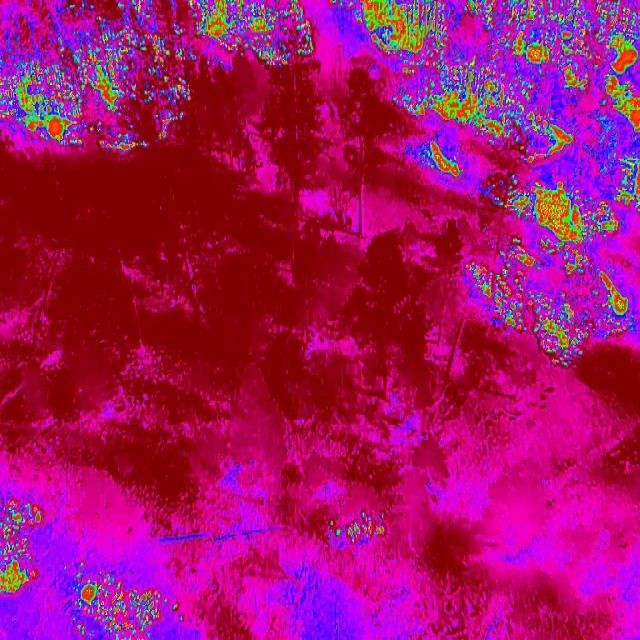fire: (468, 181, 640, 368), (0, 0, 197, 150), (394, 54, 640, 144), (338, 3, 640, 55), (67, 551, 192, 640), (196, 0, 315, 72), (431, 144, 640, 180), (0, 504, 37, 594), (324, 507, 390, 552)
